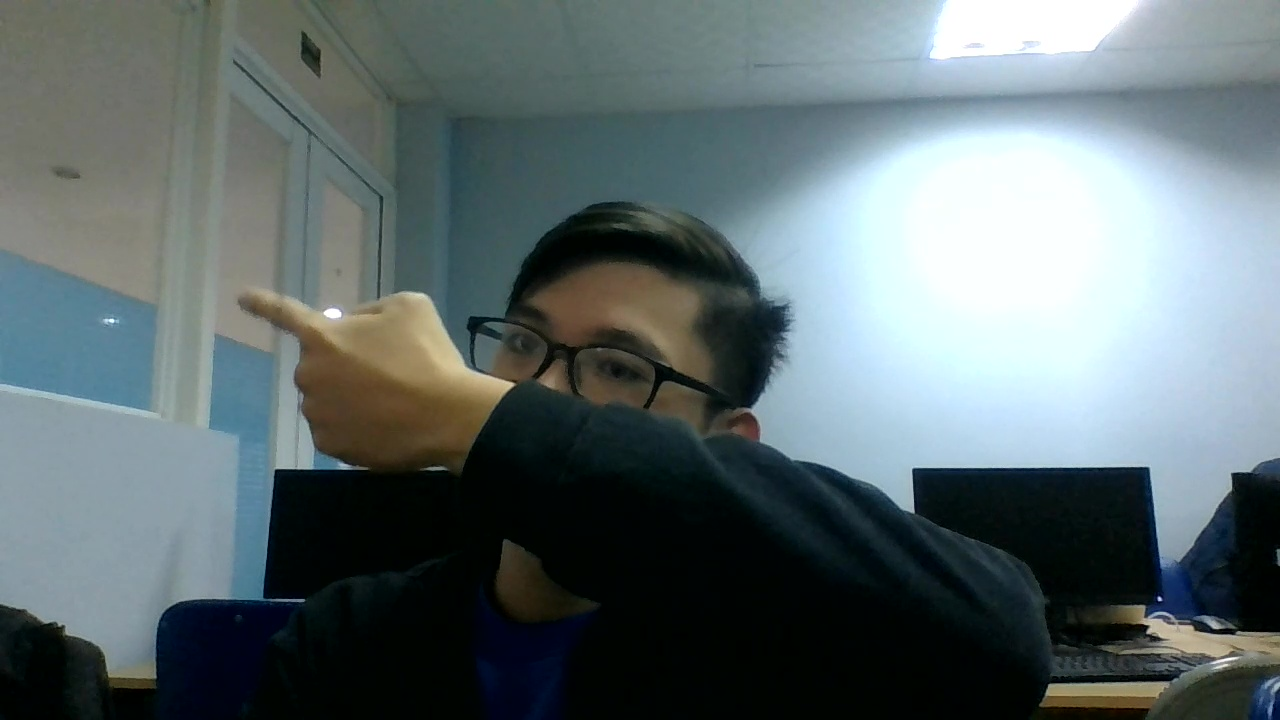right: (235, 283, 466, 485)
